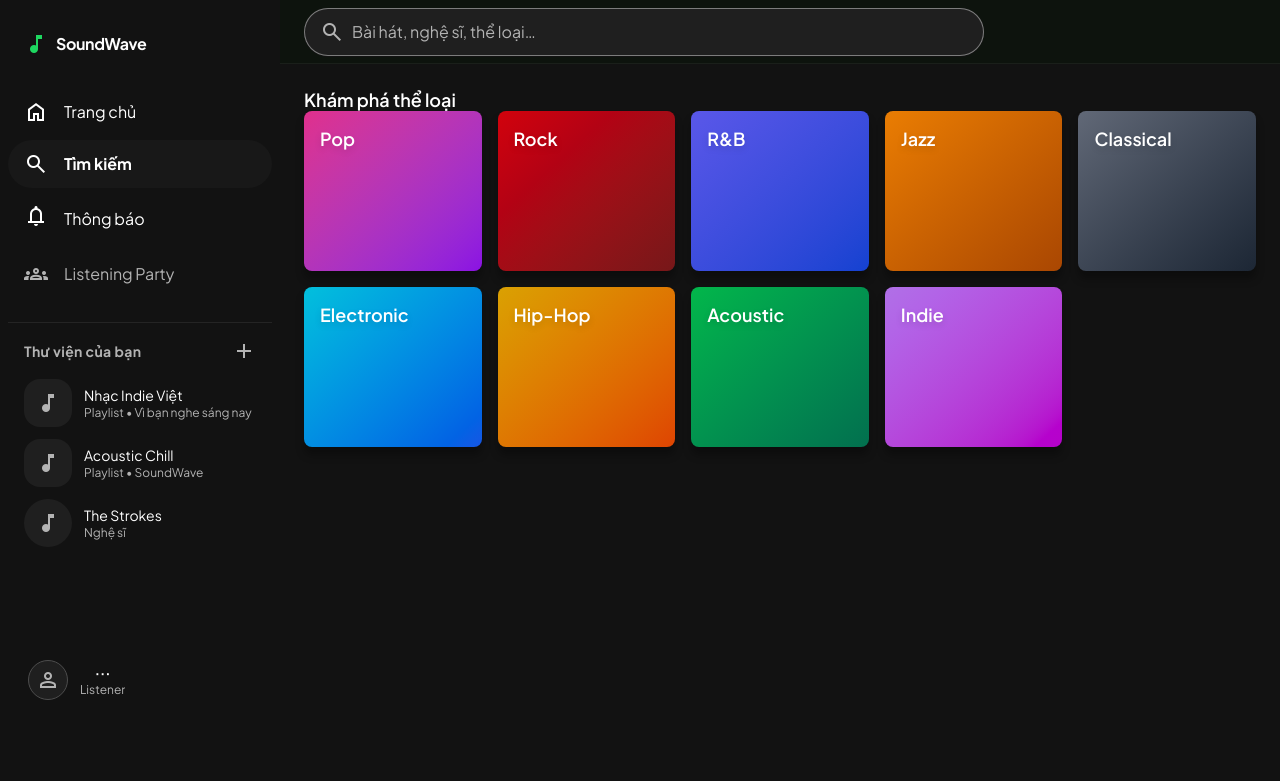
Scenario: SearchPage — filter tabs › clicking "Bài hát" tab shows songs and hides artists section
Type "sơn" into the field named "tìm kiếm" at (644, 32), box [304,8,984,56]
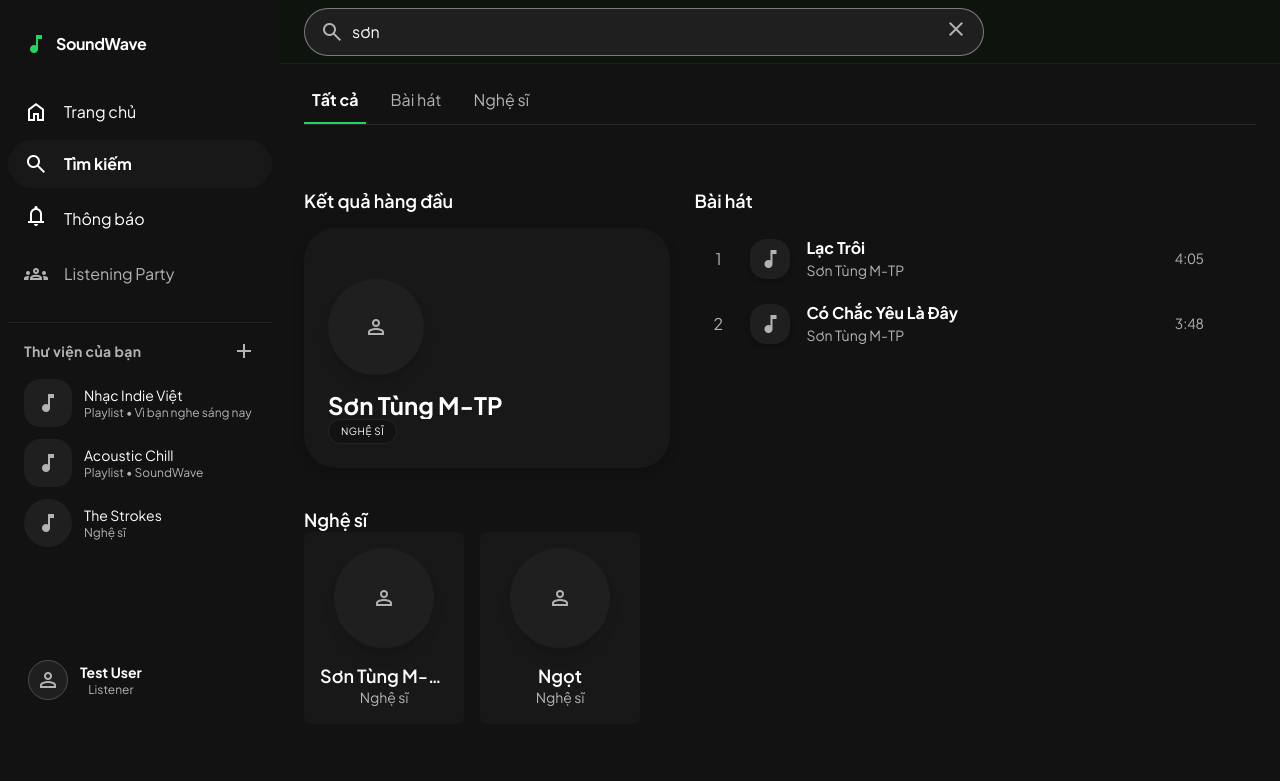
Expected: the tab with test id "filter-tab-songs" is shown
Click the tab with test id "filter-tab-songs" at (416, 106), box [382,88,449,124]
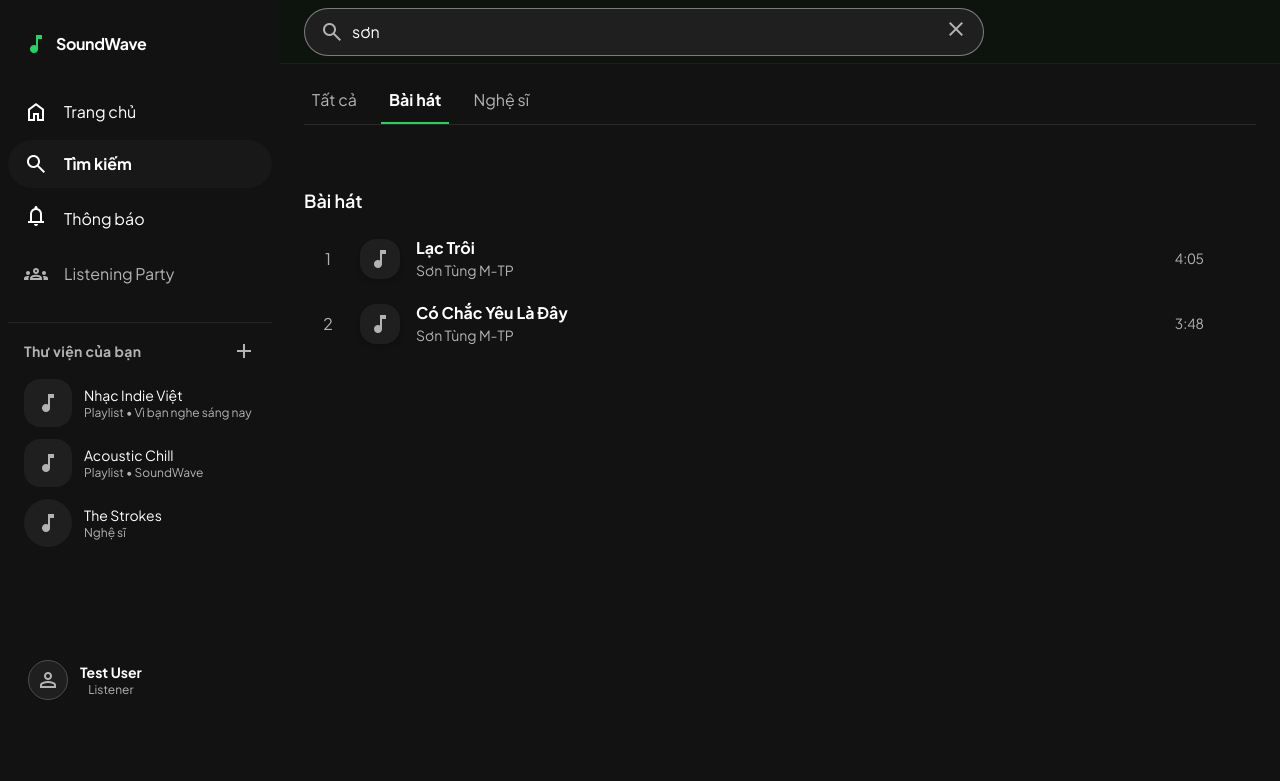
Expected: the element with test id "song-row-song-001" is shown, [304,228,1256,289]
Expected: the element with test id "artists-section" is gone
